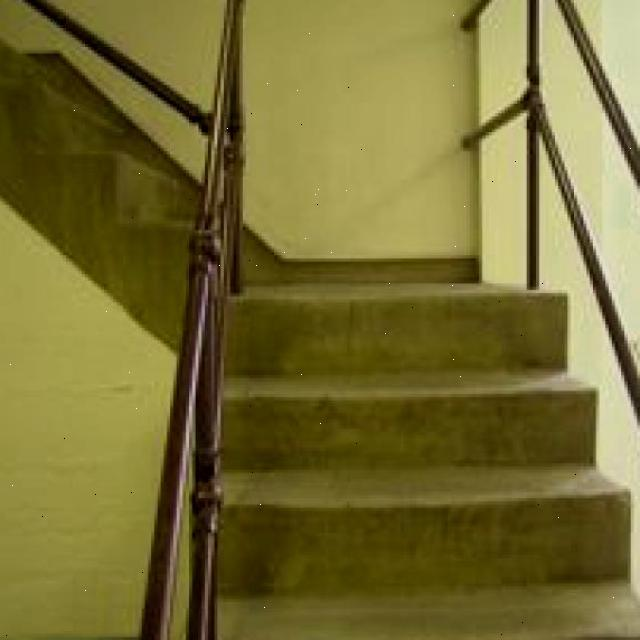stair: (180, 262, 640, 539)
